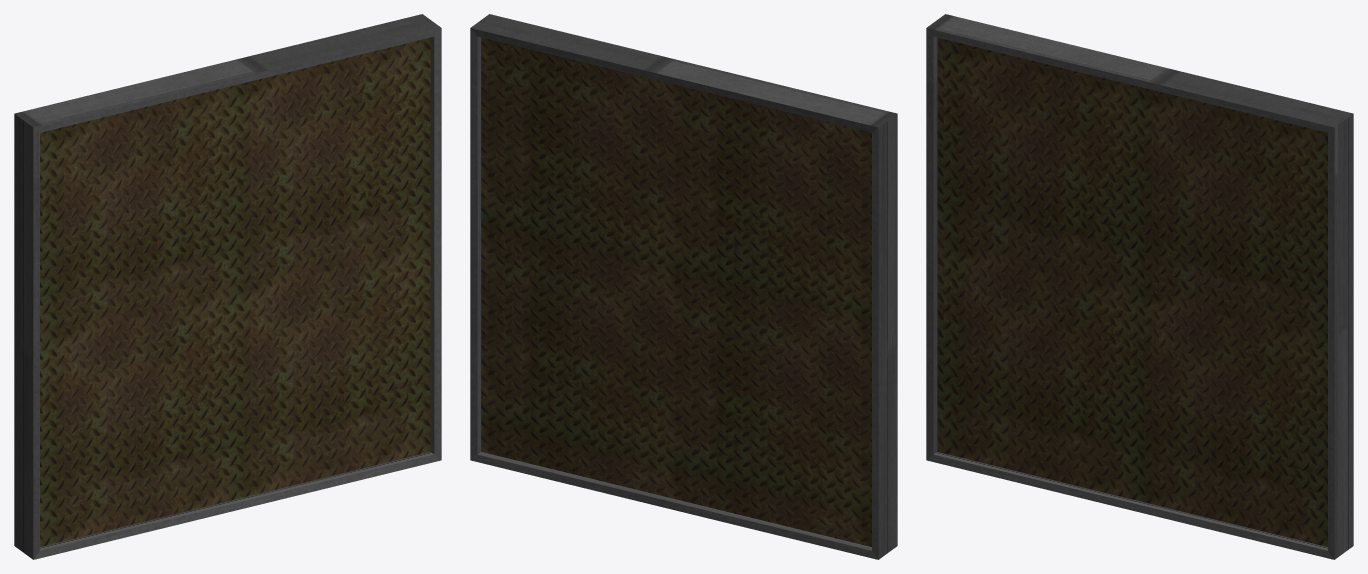
File: Main Door.fbx
3 views of the same model, side by side, from view 1: azimuth 30°, elevation 25°; view 2: azimuth 150°, elevation 25°; view 3: azimuth 330°, elevation 25° (orthographic).
Visible parts, largest first — view 1: pCube1; view 2: pCube1; view 3: pCube1.
Part boxes in pixels (box(x1,y1,x2,y2)): pCube1: box(14, 14, 441, 559); pCube1: box(470, 14, 897, 559); pCube1: box(926, 14, 1353, 559).
Size of the model in its own units: 11.4 by 11.54 by 0.9229.
2 materials, 2 textured.
